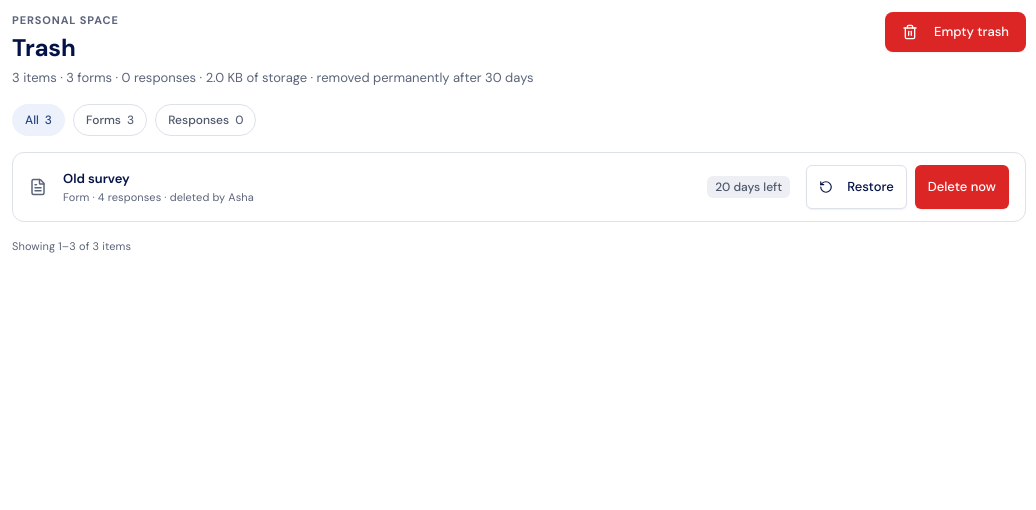
Test: TrashView › an empty filtered tab with items elsewhere offers Clear filter
Expected: the text "Old survey" is shown, [63,170,130,187]
Click the button "Responses 0" at (206, 120), box [155,104,256,136]
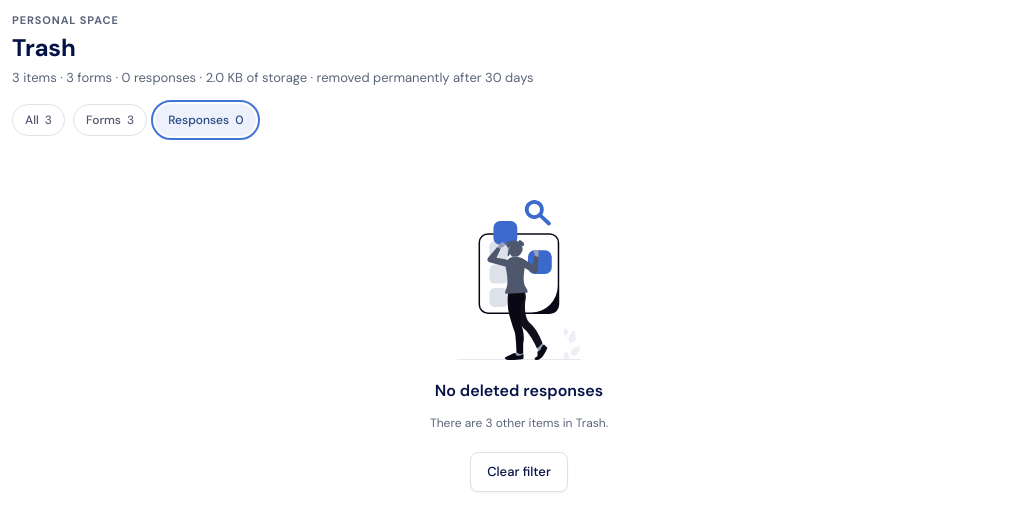
Expected: the heading "No deleted responses" is shown, [435,380,603,402]
Expected: the text "There are 3 other items in Trash." is shown, [430,414,608,432]
Click the button "Clear filter" at (519, 472), box [470,452,568,492]
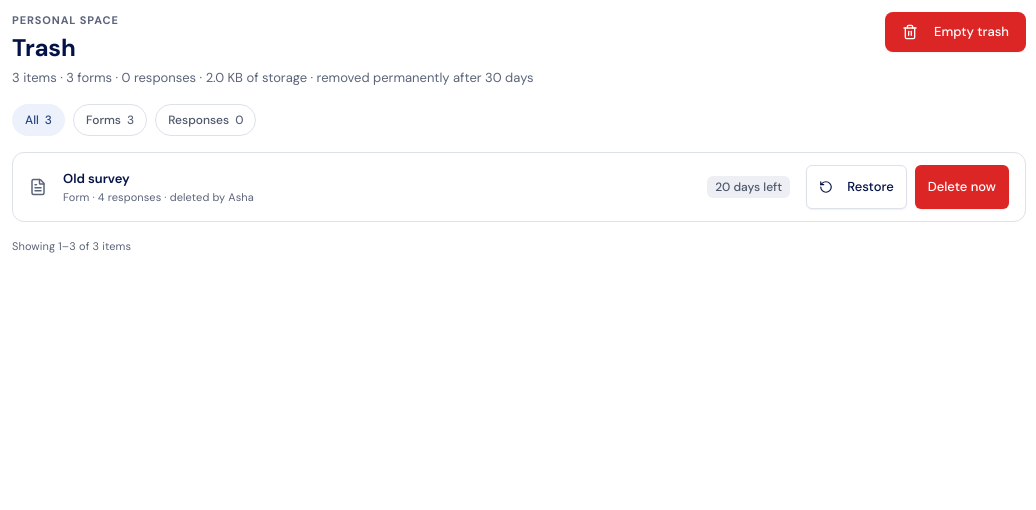
Expected: the text "Old survey" is shown, [63,170,130,187]
